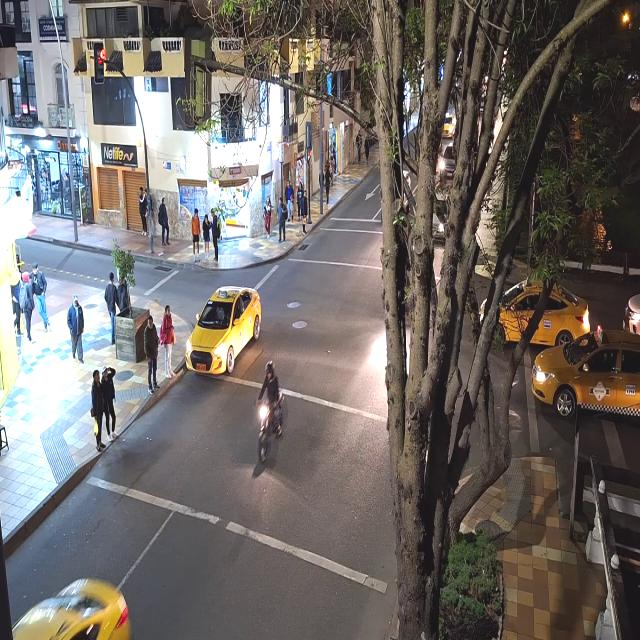MOTORCYCLE: (256, 391, 287, 461)
SED: (532, 327, 640, 417), (489, 276, 590, 343), (186, 288, 255, 373)
